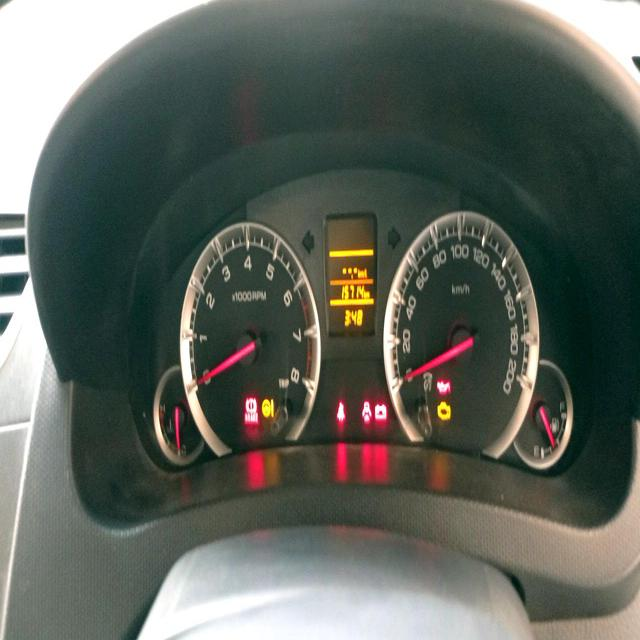odometer: (340, 283, 366, 302)
